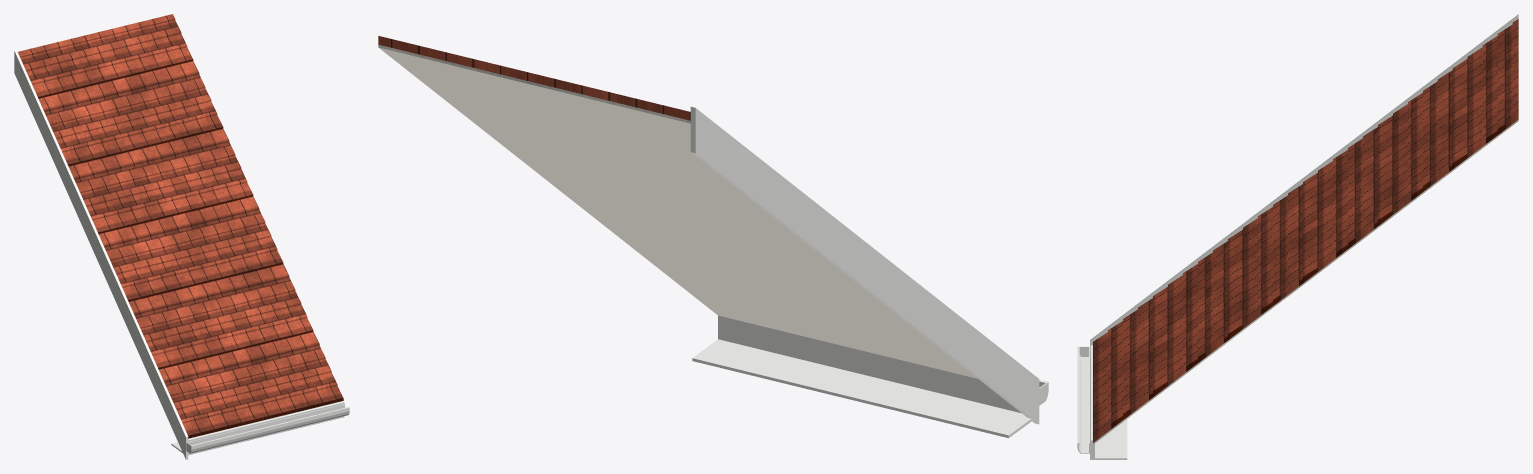
The model's file is roof_eave_a.glb.
3 views of the same model, side by side, from view 1: azimuth 30°, elevation 25°; view 2: azimuth 150°, elevation 25°; view 3: azimuth 270°, elevation 25° (orthographic). The views are drawn at different scales.
Parts seen in each view (by area): view 1: roof_eave_a_shingles, roof_eave_a_trim, roof_eave_a_gutter; view 2: roof_eave_a_plaster, roof_eave_a_trim, roof_eave_a_shingles; view 3: roof_eave_a_shingles, roof_eave_a_trim, roof_eave_a_gutter, roof_eave_a_plaster.
Part boxes in pixels (<box>): roof_eave_a_shingles: <box>18,14,343,438</box>; roof_eave_a_trim: <box>14,49,344,459</box>; roof_eave_a_gutter: <box>186,404,349,453</box>; roof_eave_a_plaster: <box>378,44,977,378</box>; roof_eave_a_trim: <box>690,106,1039,438</box>; roof_eave_a_shingles: <box>378,36,690,120</box>; roof_eave_a_shingles: <box>1093,19,1518,442</box>; roof_eave_a_trim: <box>1090,14,1518,459</box>; roof_eave_a_gutter: <box>1077,346,1089,453</box>; roof_eave_a_plaster: <box>1093,120,1518,444</box>.
Size of the model in its own units: 2.34 by 4 by 4.51.
Materials: 4 (2 with a texture image).
